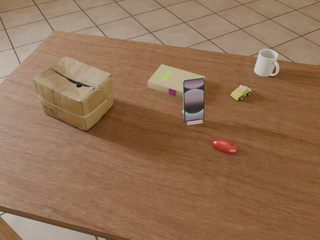book: (148, 65, 205, 99)
box: (32, 57, 113, 130)
cup: (254, 49, 279, 76)
mouse: (212, 139, 238, 154)
phone: (182, 77, 204, 122)
toy_car: (231, 85, 252, 100)
